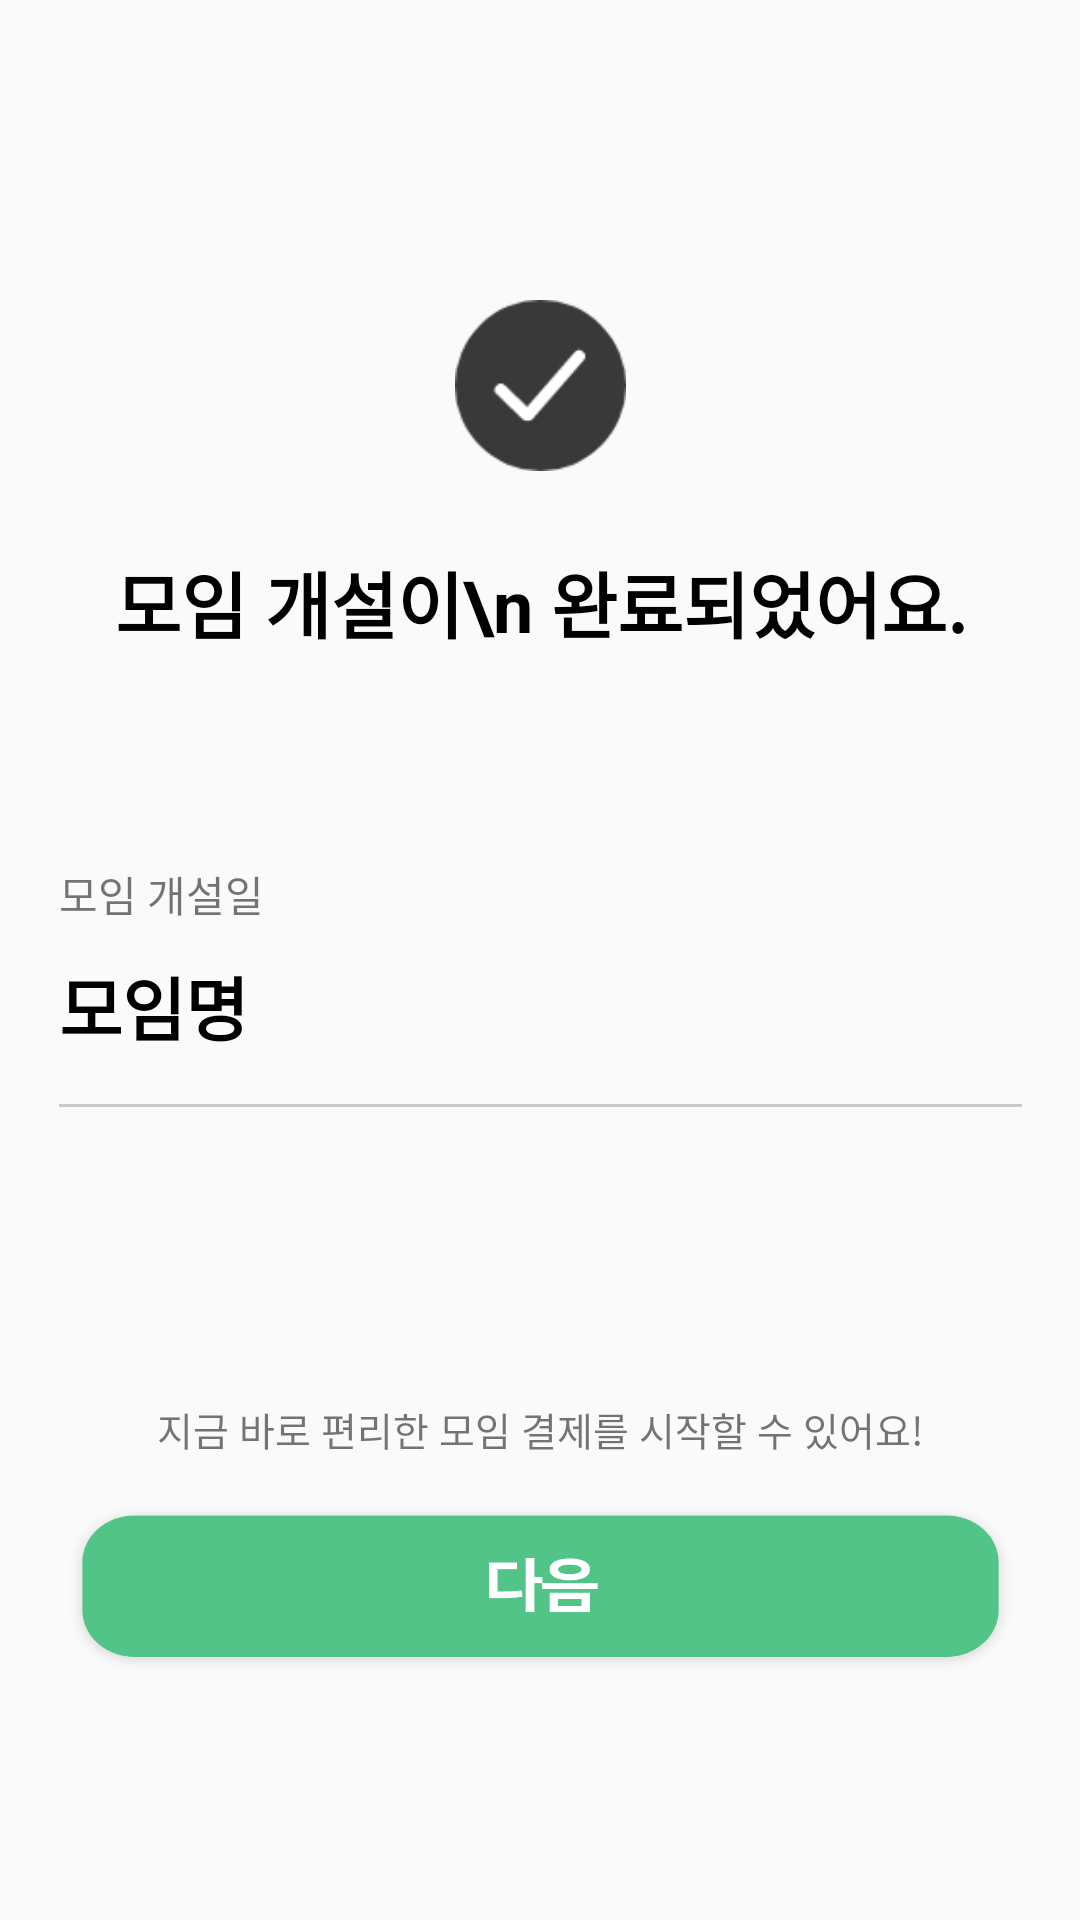

Icon bounding boxes for this 1080×1920 phone screenshot, format detection(x1, y1, x2, y2):
member check: detection(455, 300, 626, 471)
